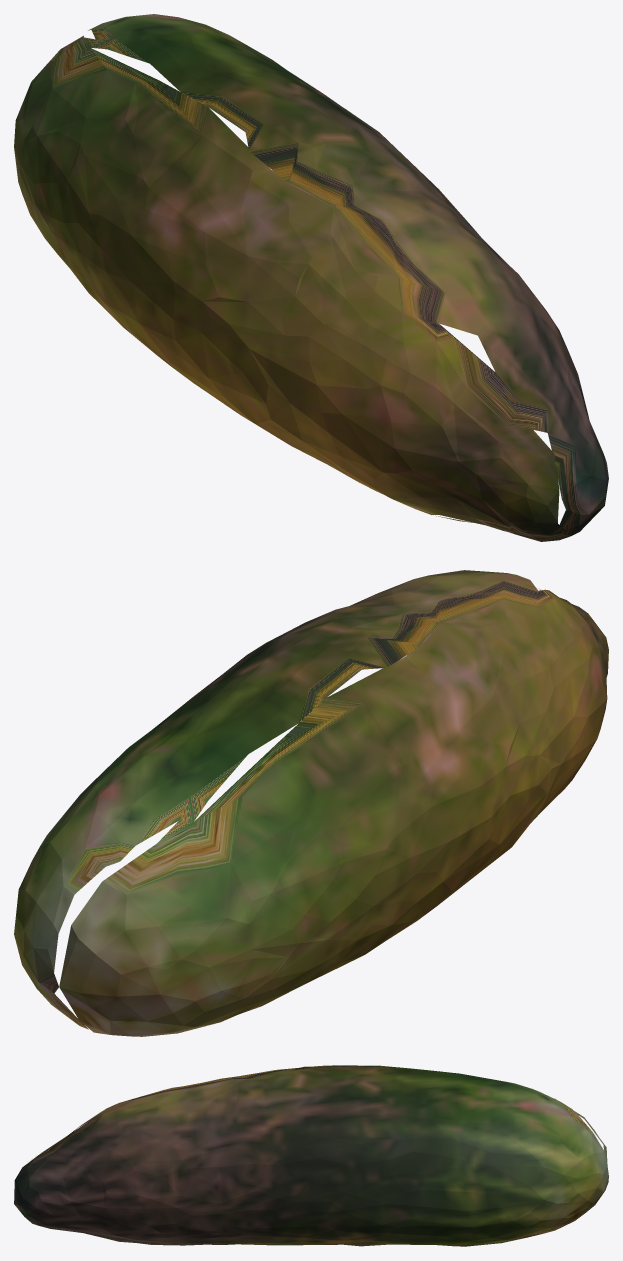
File: food_produce_cucumber_e01.glb
3 renders of one model, top to bottom at view 1: azimuth 30°, elevation 25°; view 2: azimuth 150°, elevation 25°; view 3: azimuth 270°, elevation 25°, orthographic. The views are drawn at different scales.
Visible parts, largest first — view 1: geometry_0; view 2: geometry_0; view 3: geometry_0.
Part boxes in pixels (x1,y1,x2,y2): geometry_0: (14, 14, 608, 541); geometry_0: (14, 570, 608, 1036); geometry_0: (14, 1065, 608, 1246).
Size of the model in its own units: 0.1278 by 0.1293 by 0.42.
Materials: 1 (1 with a texture image).
